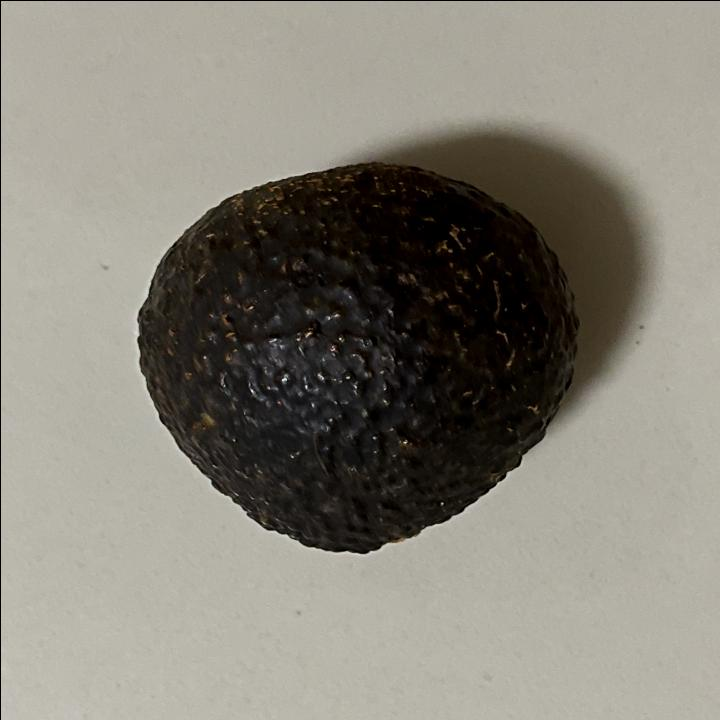Level2: (126, 157, 589, 563)
